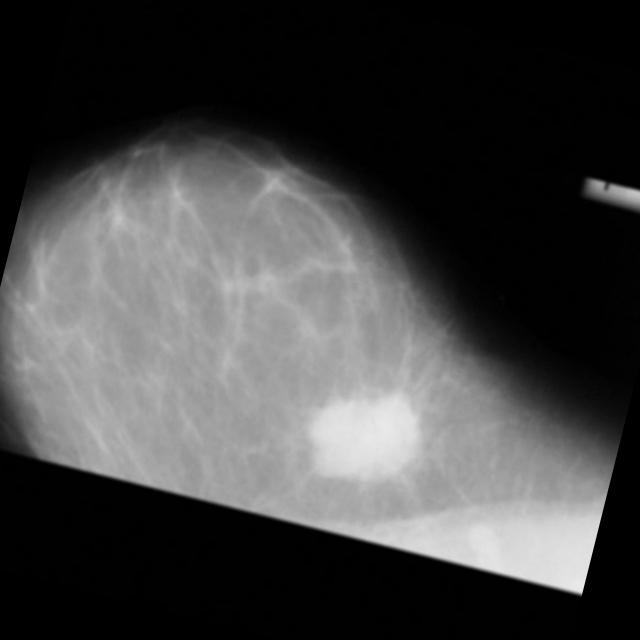SPIC: (278, 348, 450, 520)
